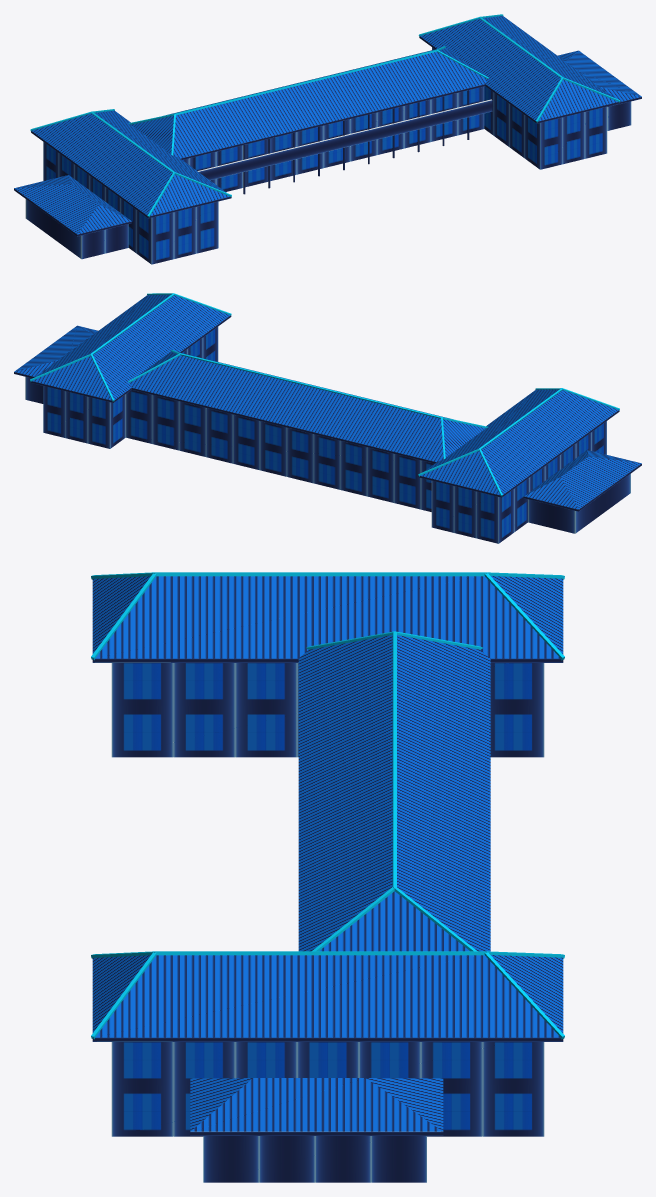
Rendered from bwg.obj.
3 views of the same model, one above another, from view 1: azimuth 30°, elevation 25°; view 2: azimuth 150°, elevation 25°; view 3: azimuth 270°, elevation 25° (orthographic). The views are drawn at different scales.
Parts seen in each view (by area): view 1: Box002; view 2: Box002; view 3: Box002.
Boxes of the visible parts, x1,y1,x2,y2 form: Box002: (14,14,641,264); Box002: (14,293,641,543); Box002: (91,572,564,1182).
Bounding box in the file's own units: 69.36 × 8.95 × 25.22.
